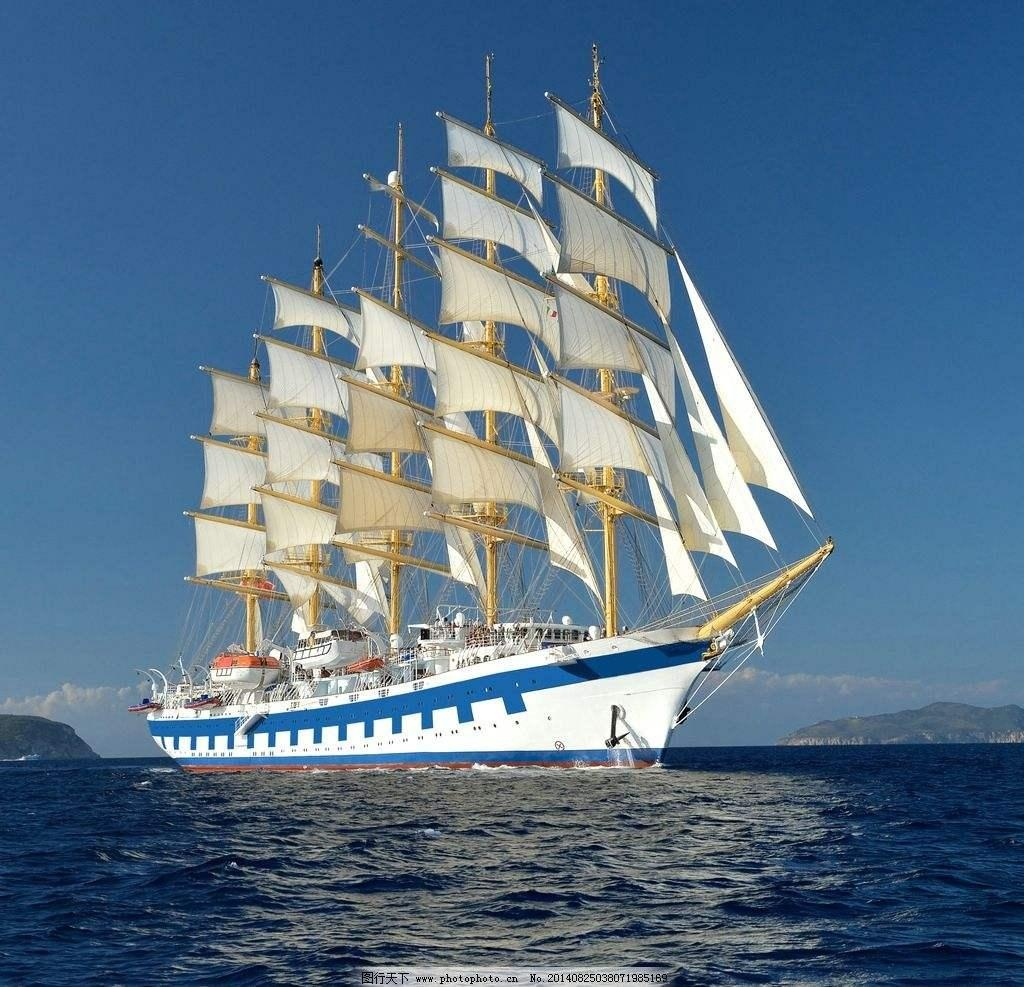fanchuan: (145, 34, 828, 781)
